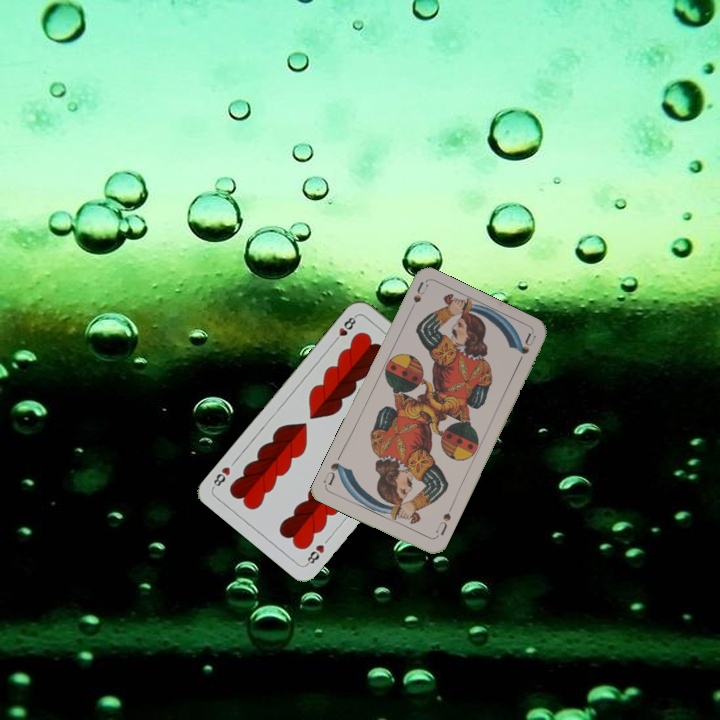H8: (329, 312, 359, 346), (302, 540, 327, 568)
SU: (404, 279, 430, 318), (431, 503, 455, 541)
